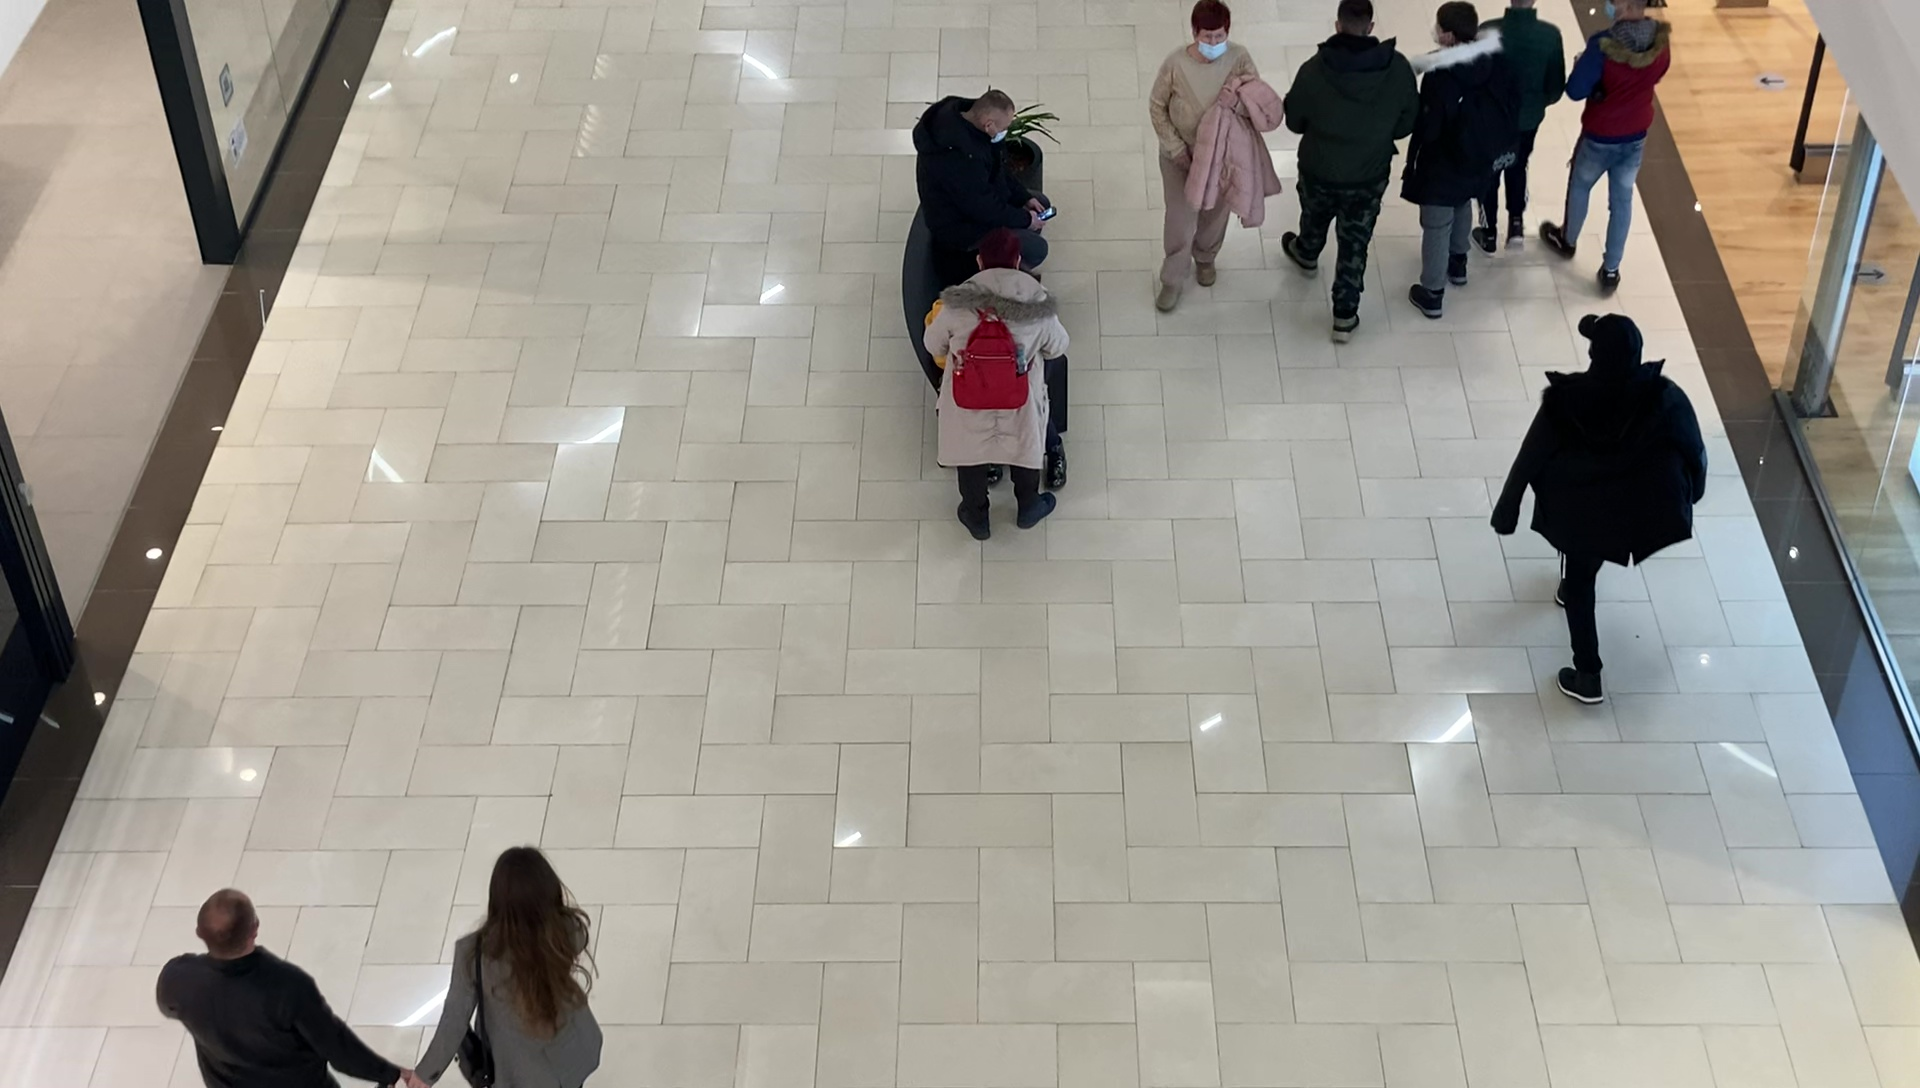person: (1492, 314, 1708, 706), (1282, 1, 1417, 346), (415, 848, 602, 1088), (154, 888, 377, 1088), (1148, 1, 1266, 314), (1560, 1, 1666, 292), (1408, 1, 1495, 321)
